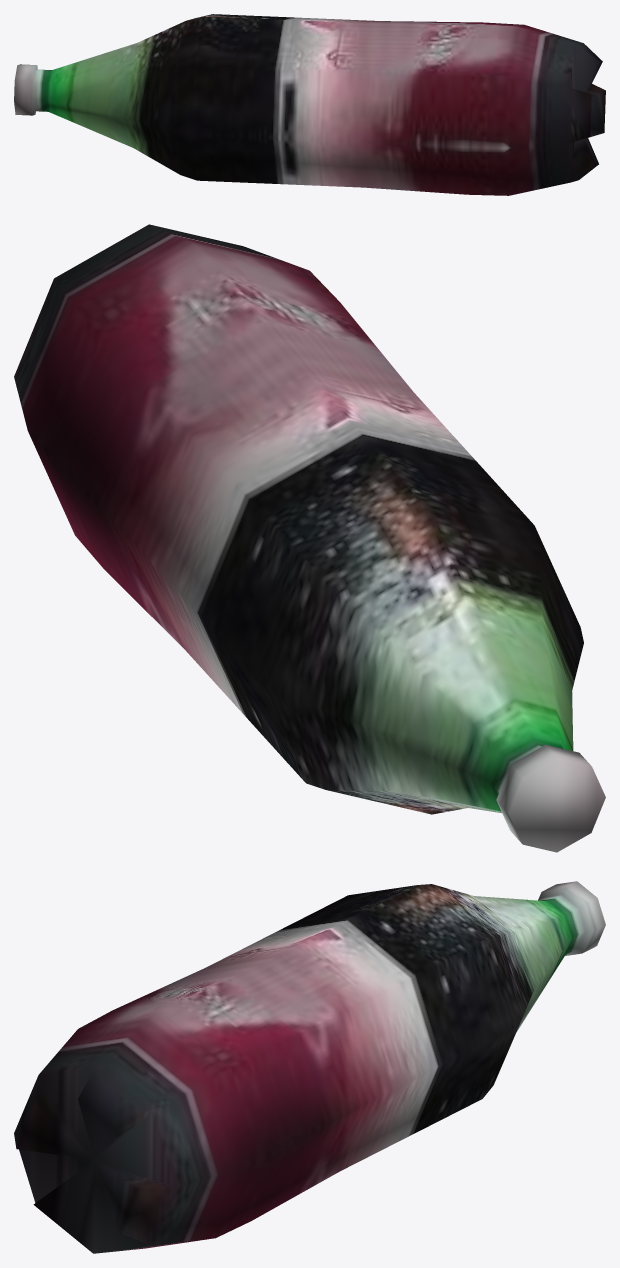
3 renders of one model, top to bottom at view 1: azimuth 30°, elevation 25°; view 2: azimuth 150°, elevation 25°; view 3: azimuth 270°, elevation 25°, orthographic. The views are drawn at different scales.
Visible parts, largest first — view 1: Soda_02003_Foods_02_0; view 2: Soda_02003_Foods_02_0; view 3: Soda_02003_Foods_02_0.
Part boxes in pixels (box(x1,y1,x2,y2)): Soda_02003_Foods_02_0: box(14, 14, 605, 195); Soda_02003_Foods_02_0: box(14, 224, 605, 852); Soda_02003_Foods_02_0: box(14, 881, 605, 1253).
Bounding box in the file's own units: 0.5413 × 0.1972 × 0.453.
1 material, 1 textured.
